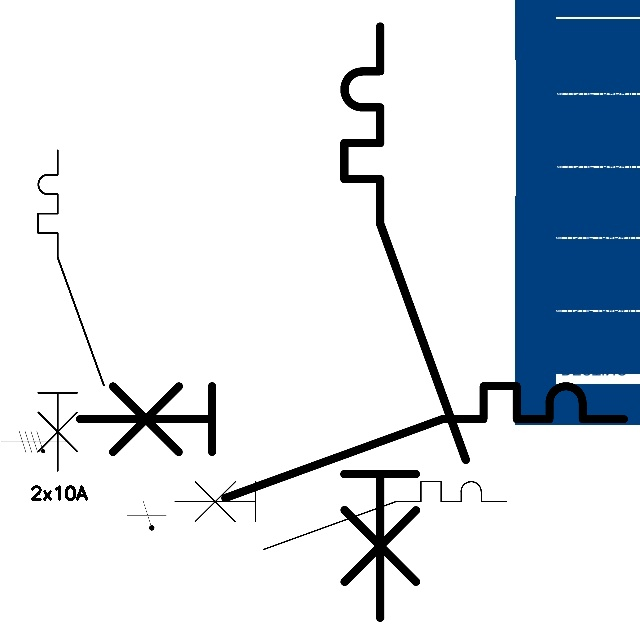interruptor_termomagnetico: (329, 11, 481, 633), (65, 372, 638, 512), (166, 473, 514, 558), (30, 142, 112, 479)
